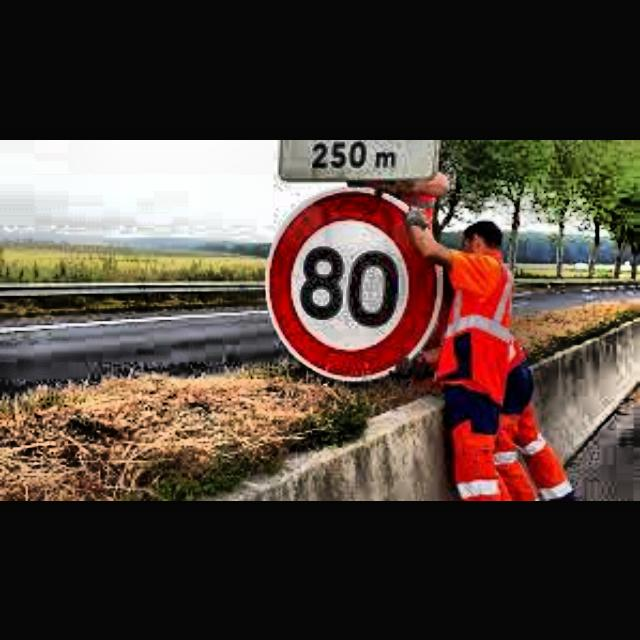speed_80: (265, 187, 437, 382)
